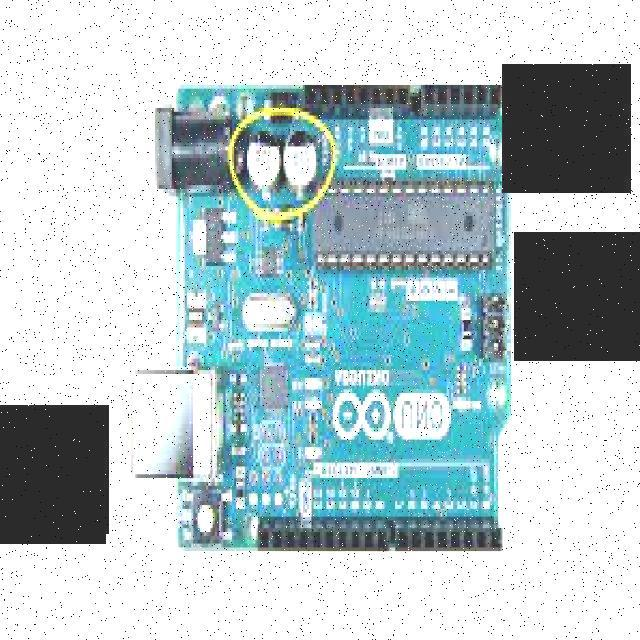arduino: (162, 77, 516, 558)
